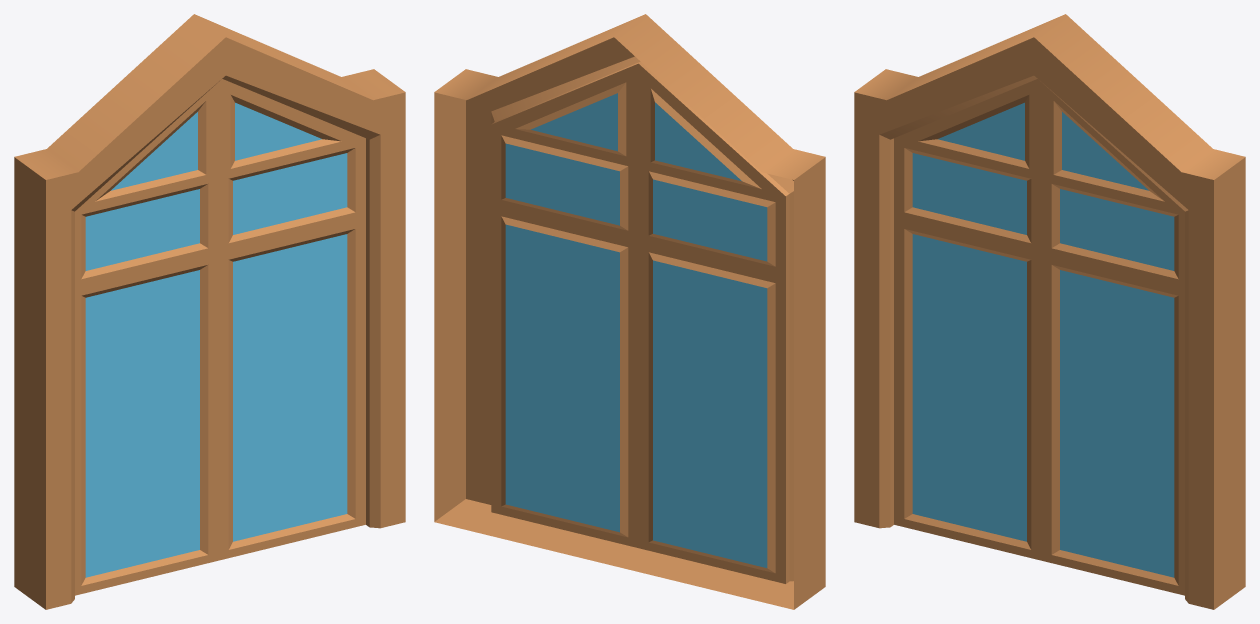
Rendered from DoorVitrine1Triangle.fbx.
3 views of the same model, side by side, from view 1: azimuth 30°, elevation 25°; view 2: azimuth 150°, elevation 25°; view 3: azimuth 330°, elevation 25° (orthographic).
Visible parts, largest first — view 1: DoorVitrine1Triangle; view 2: DoorVitrine1Triangle; view 3: DoorVitrine1Triangle.
Part boxes in pixels (x1,y1,x2,y2): DoorVitrine1Triangle: (14,14,405,609); DoorVitrine1Triangle: (434,14,825,609); DoorVitrine1Triangle: (854,14,1245,609).
Bounding box in the file's own units: 3.34 × 0.5104 × 4.69.
